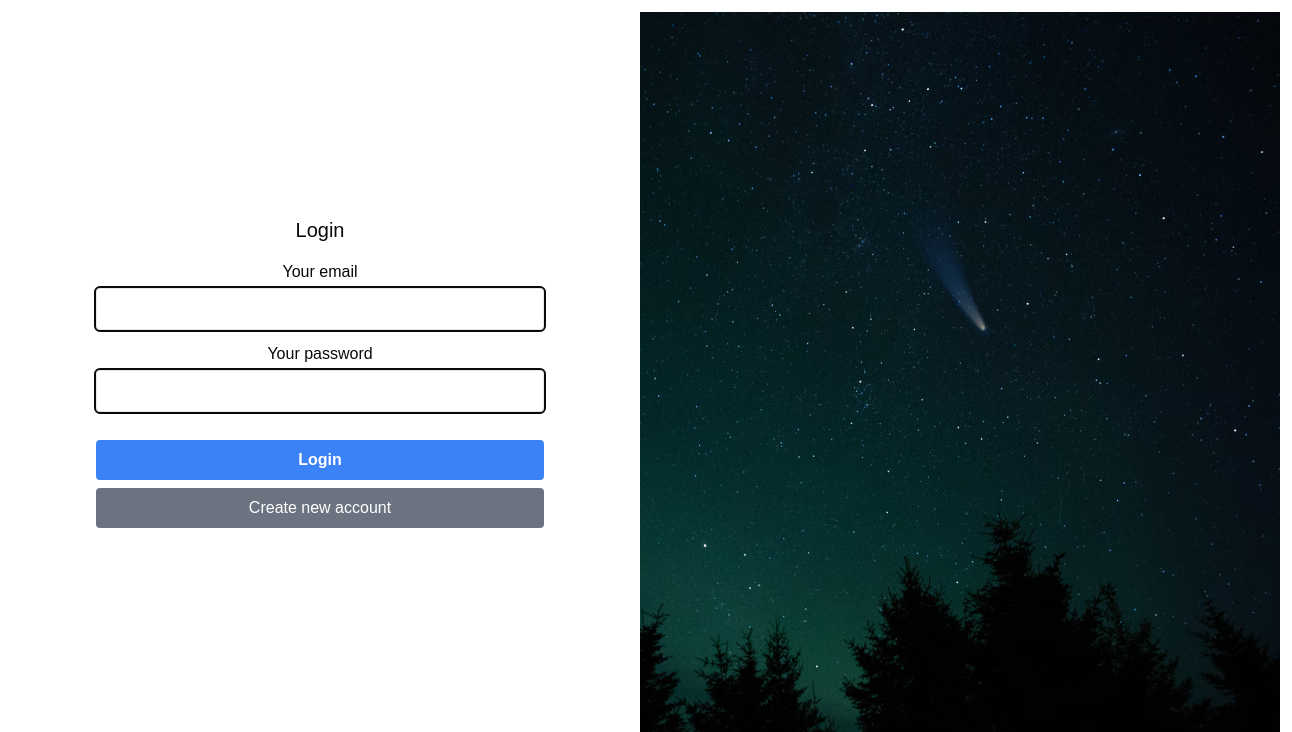
Form › changes the state when clicking the button
This screenshot has width=1292, height=732.
Check: the button with test id "button-switch" is shown, box [96,440,544,480]
Click the button with test id "btn-signup" at (320, 508), box [96,488,544,528]
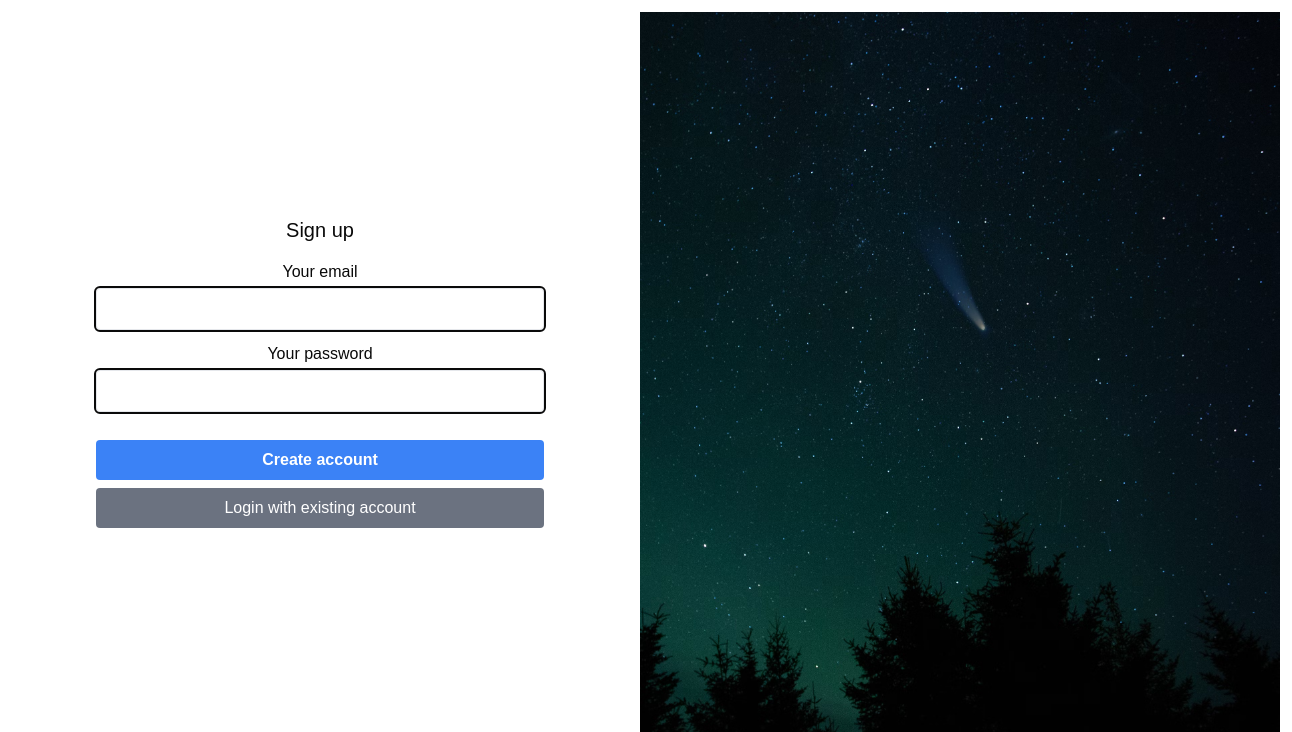
Check: the heading "Sign up" is shown, box [286,216,354,244]
Click the button with test id "btn-signup" at (320, 508), box [96,488,544,528]
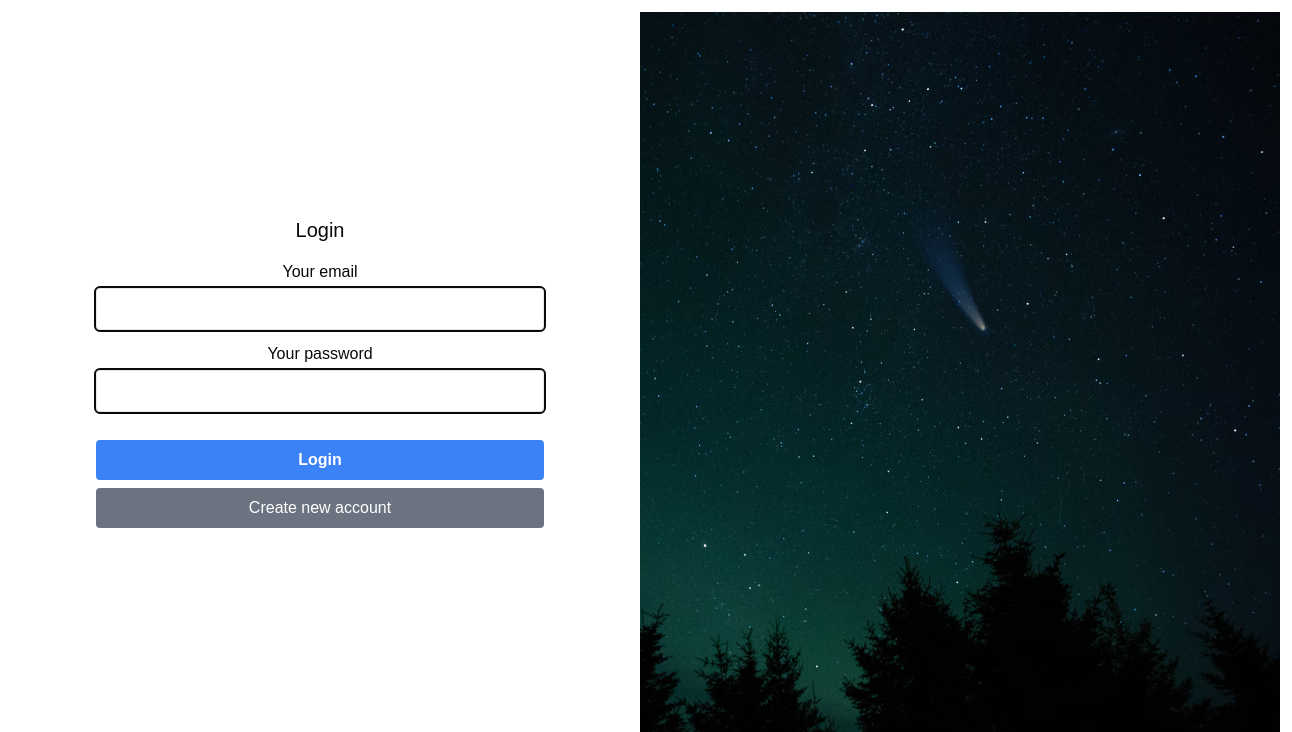
Check: the heading "Sign up" is gone
